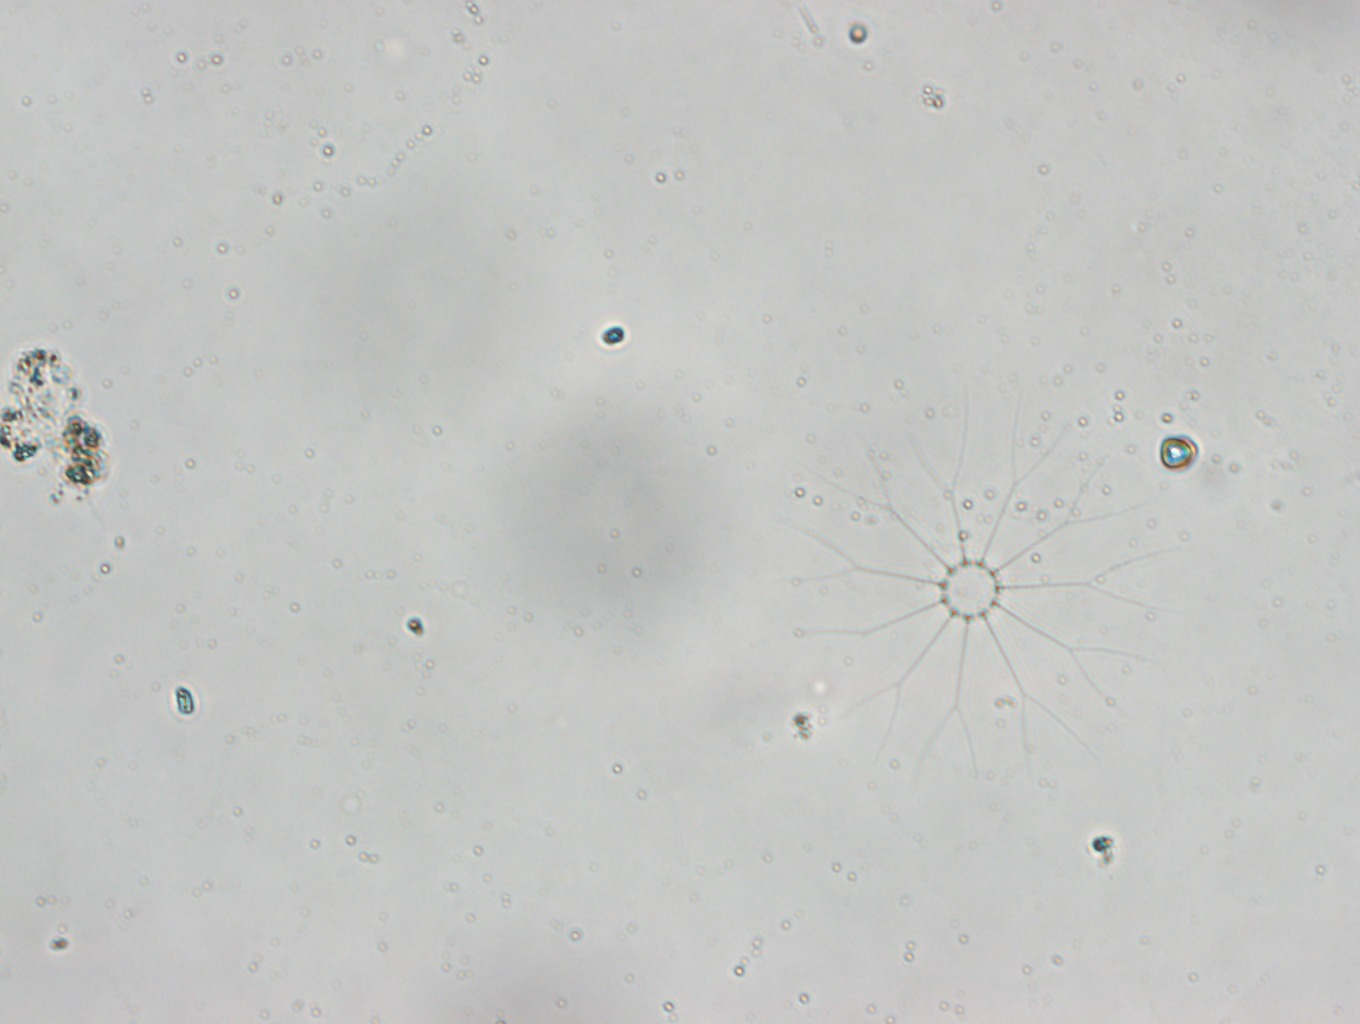bacteriastrum: (771, 388, 1168, 792)
